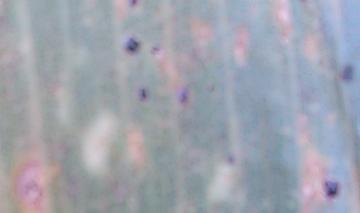tarspot: (323, 179, 340, 200), (125, 37, 138, 57), (340, 65, 354, 83), (178, 89, 189, 106), (138, 89, 148, 101), (150, 47, 160, 56), (129, 1, 139, 9), (227, 154, 234, 165)
